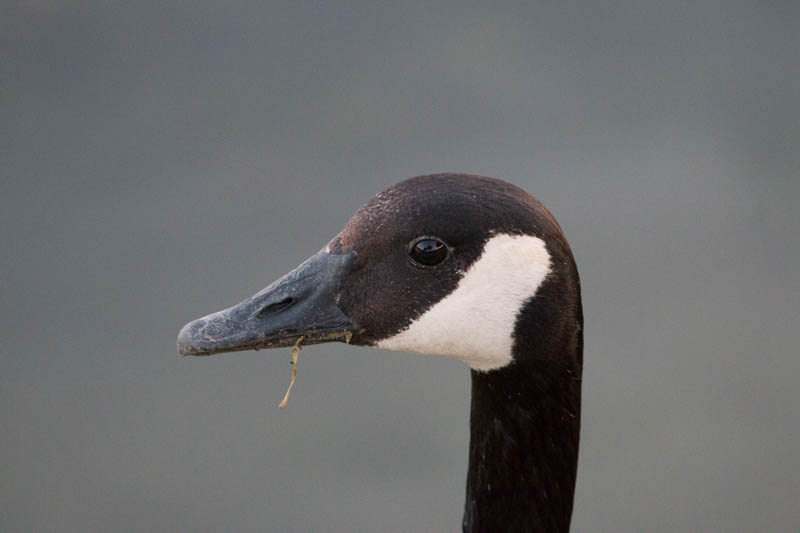goose-head: (175, 171, 582, 372)
